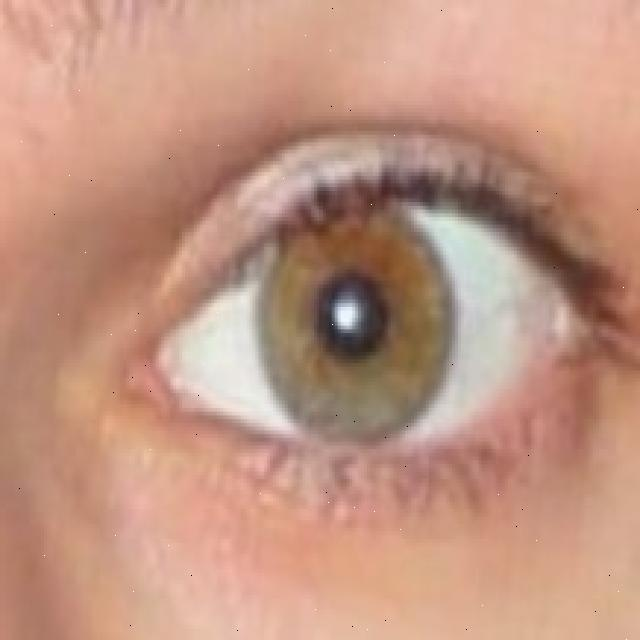Normal: (249, 193, 458, 455)
